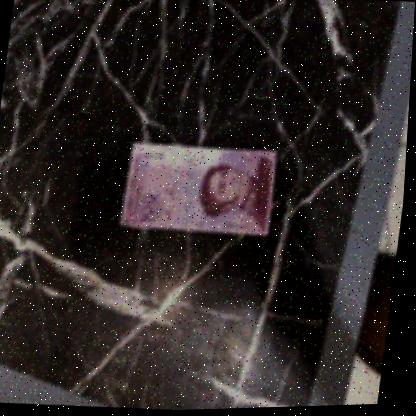one_hundred-front-vef: (121, 139, 283, 240)
